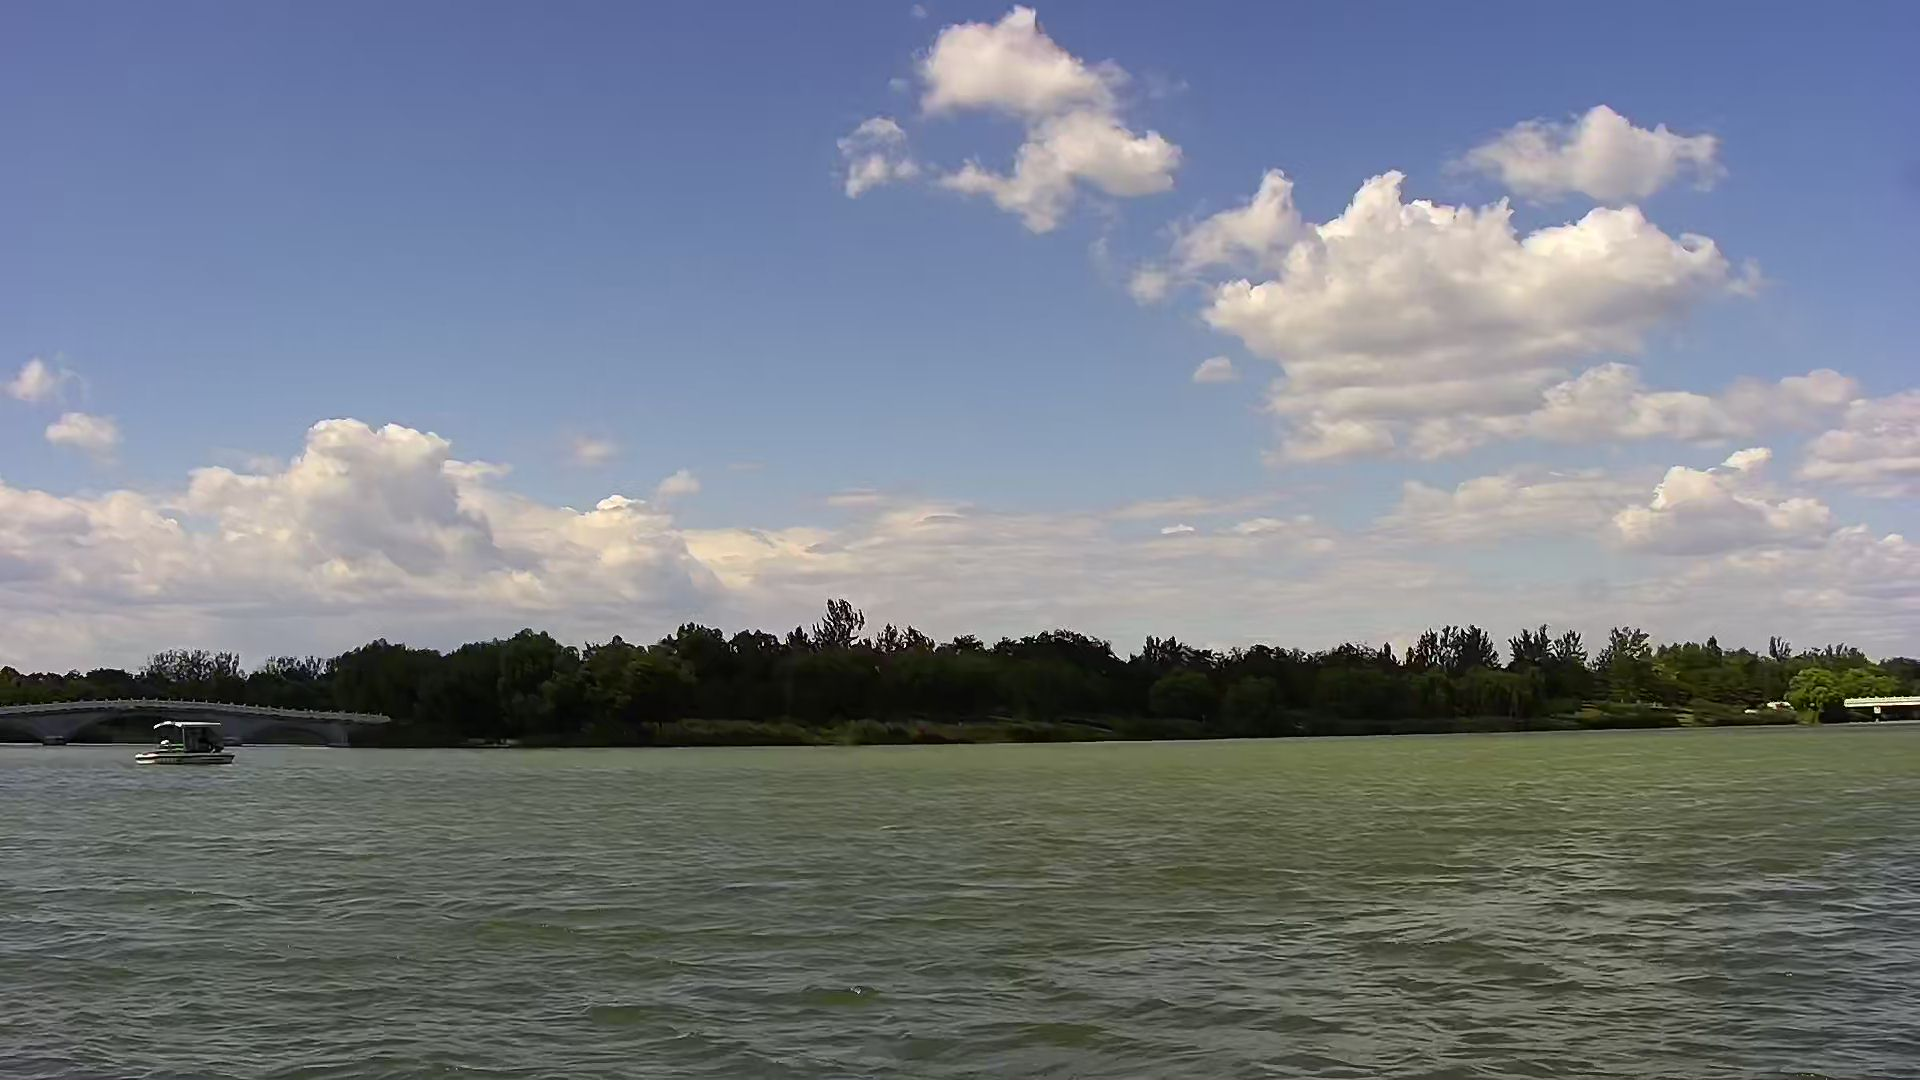boat: (137, 719, 243, 769)
bridge: (1, 688, 388, 752), (1844, 695, 1920, 725)
